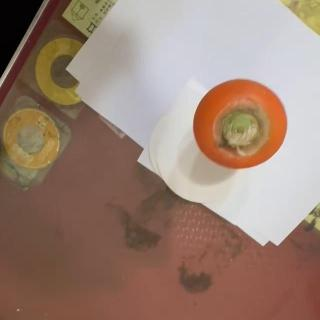carrot: (193, 79, 289, 171)
